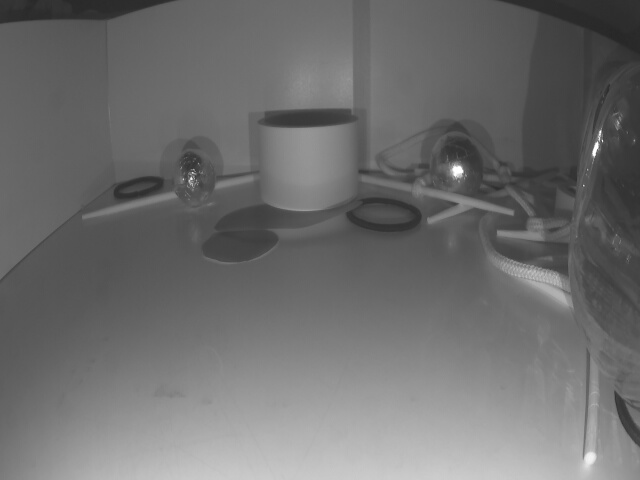Live: (431, 132, 483, 199), (171, 150, 216, 204)
